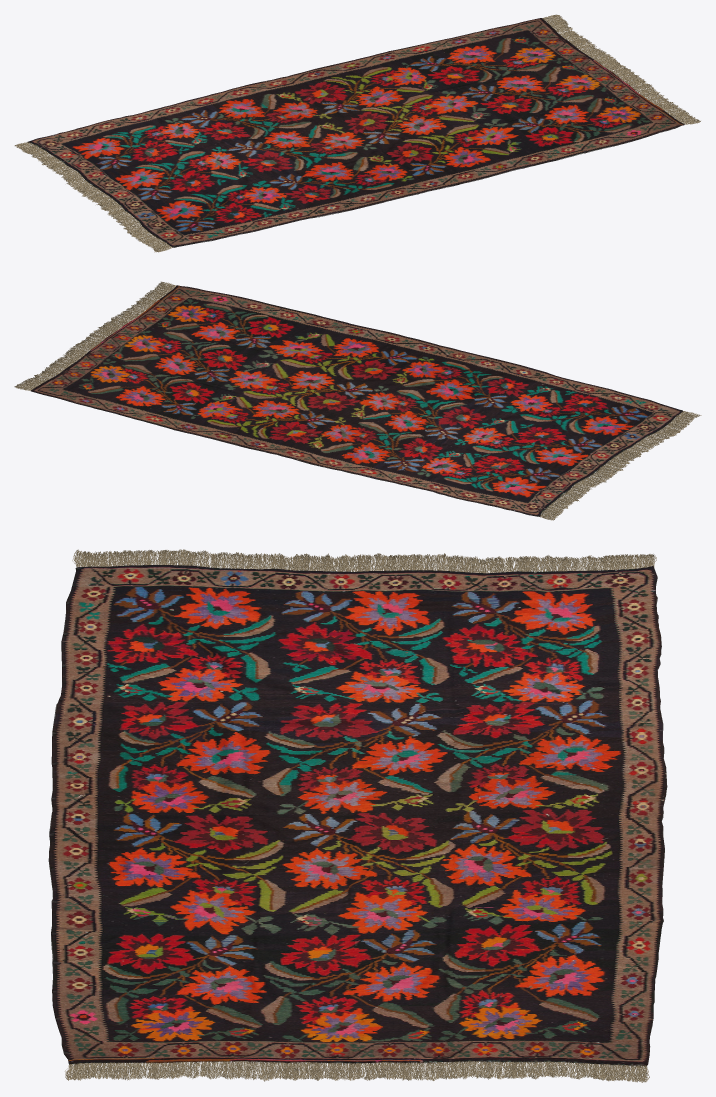
The model's file is bess-arabian-gallery-kilim-i-runner.glb.
3 views of the same model, one above another, from view 1: azimuth 30°, elevation 25°; view 2: azimuth 150°, elevation 25°; view 3: azimuth 270°, elevation 25° (orthographic). The views are drawn at different scales.
Visible parts, largest first — view 1: Bess Arabian Gallery Kilim I Runner _2, frange1_0, frange2_1; view 2: Bess Arabian Gallery Kilim I Runner _2, frange1_0, frange2_1; view 3: Bess Arabian Gallery Kilim I Runner _2, frange2_1, frange1_0.
Part boxes in pixels (box(x1,y1,x2,y2)): Bess Arabian Gallery Kilim I Runner _2: box(27, 18, 684, 247); frange1_0: box(14, 142, 172, 252); frange2_1: box(542, 14, 700, 124); Bess Arabian Gallery Kilim I Runner _2: box(31, 285, 682, 516); frange1_0: box(540, 411, 701, 520); frange2_1: box(14, 281, 176, 390); Bess Arabian Gallery Kilim I Runner _2: box(48, 565, 667, 1065); frange2_1: box(65, 1061, 649, 1082); frange1_0: box(72, 549, 656, 573).
Bounding box in the file's own units: 3 × 0.0115 × 1.47.
2 materials, 1 textured.
